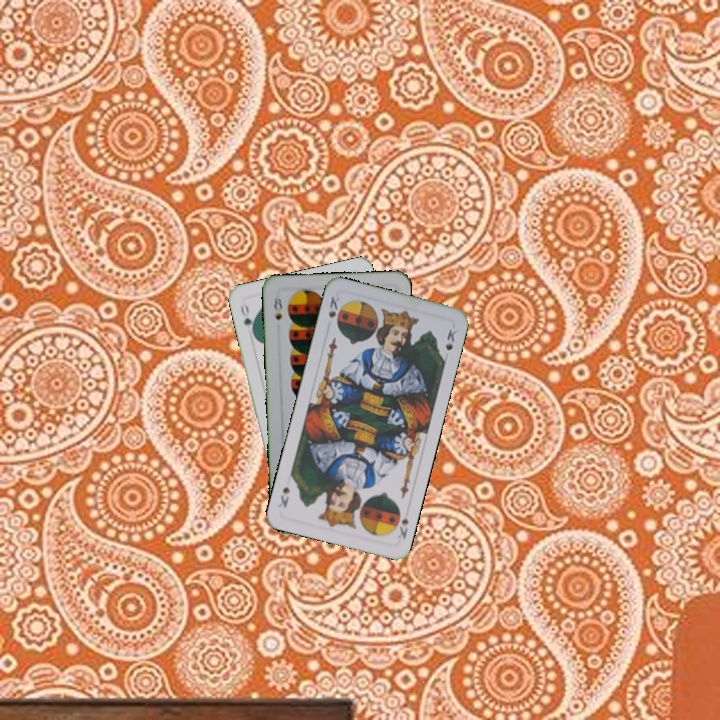GO: (236, 299, 257, 338)
S8: (269, 291, 285, 323)
SK: (324, 292, 344, 327), (393, 513, 411, 541)
